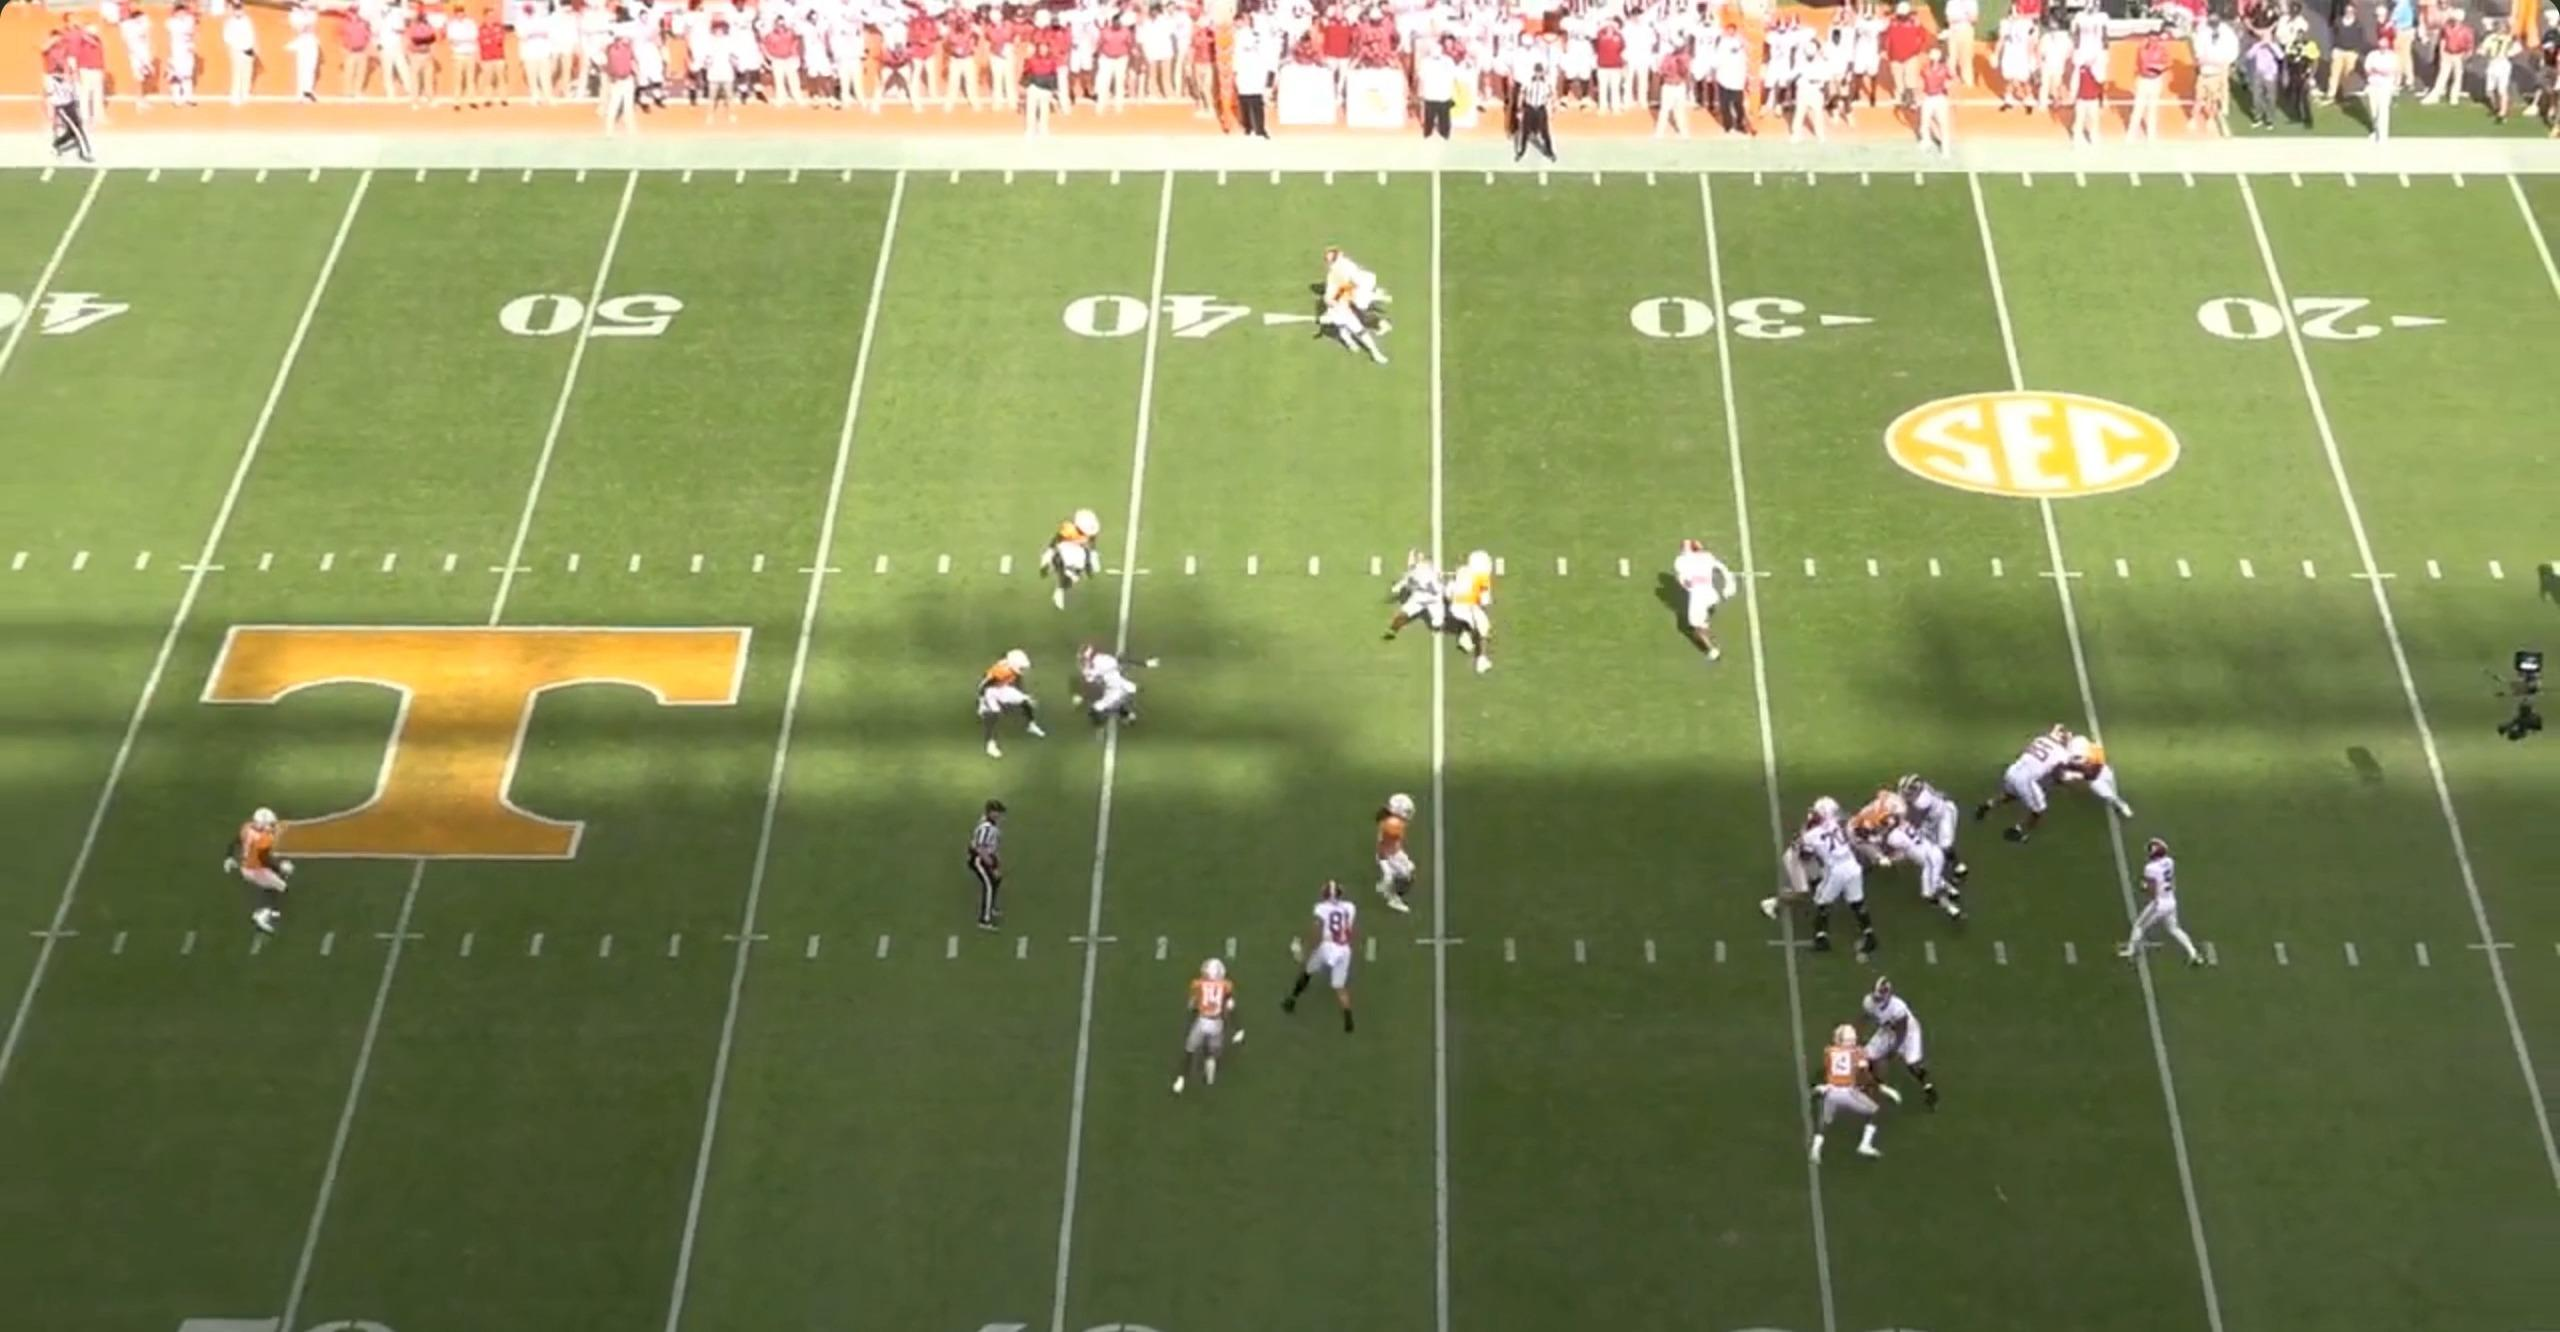defense: (1795, 1019, 1881, 1168), (1160, 948, 1241, 1097), (1766, 792, 1852, 922), (980, 650, 1058, 768), (1360, 792, 1429, 922), (237, 804, 301, 941), (1434, 545, 1502, 672), (1036, 503, 1109, 616), (2061, 728, 2137, 824), (1319, 262, 1390, 366), (1846, 787, 1912, 880)
oline: (1974, 723, 2081, 845), (1854, 977, 1945, 1110), (1800, 807, 1864, 955), (1879, 811, 1956, 931), (1893, 772, 1966, 889)
qb: (2118, 831, 2201, 966)
ref: (958, 802, 1018, 939), (36, 63, 100, 166), (1497, 66, 1556, 166)
skill: (1285, 872, 1373, 1034), (1661, 540, 1732, 670), (1072, 643, 1161, 743), (1378, 547, 1456, 645), (1319, 244, 1393, 339)
